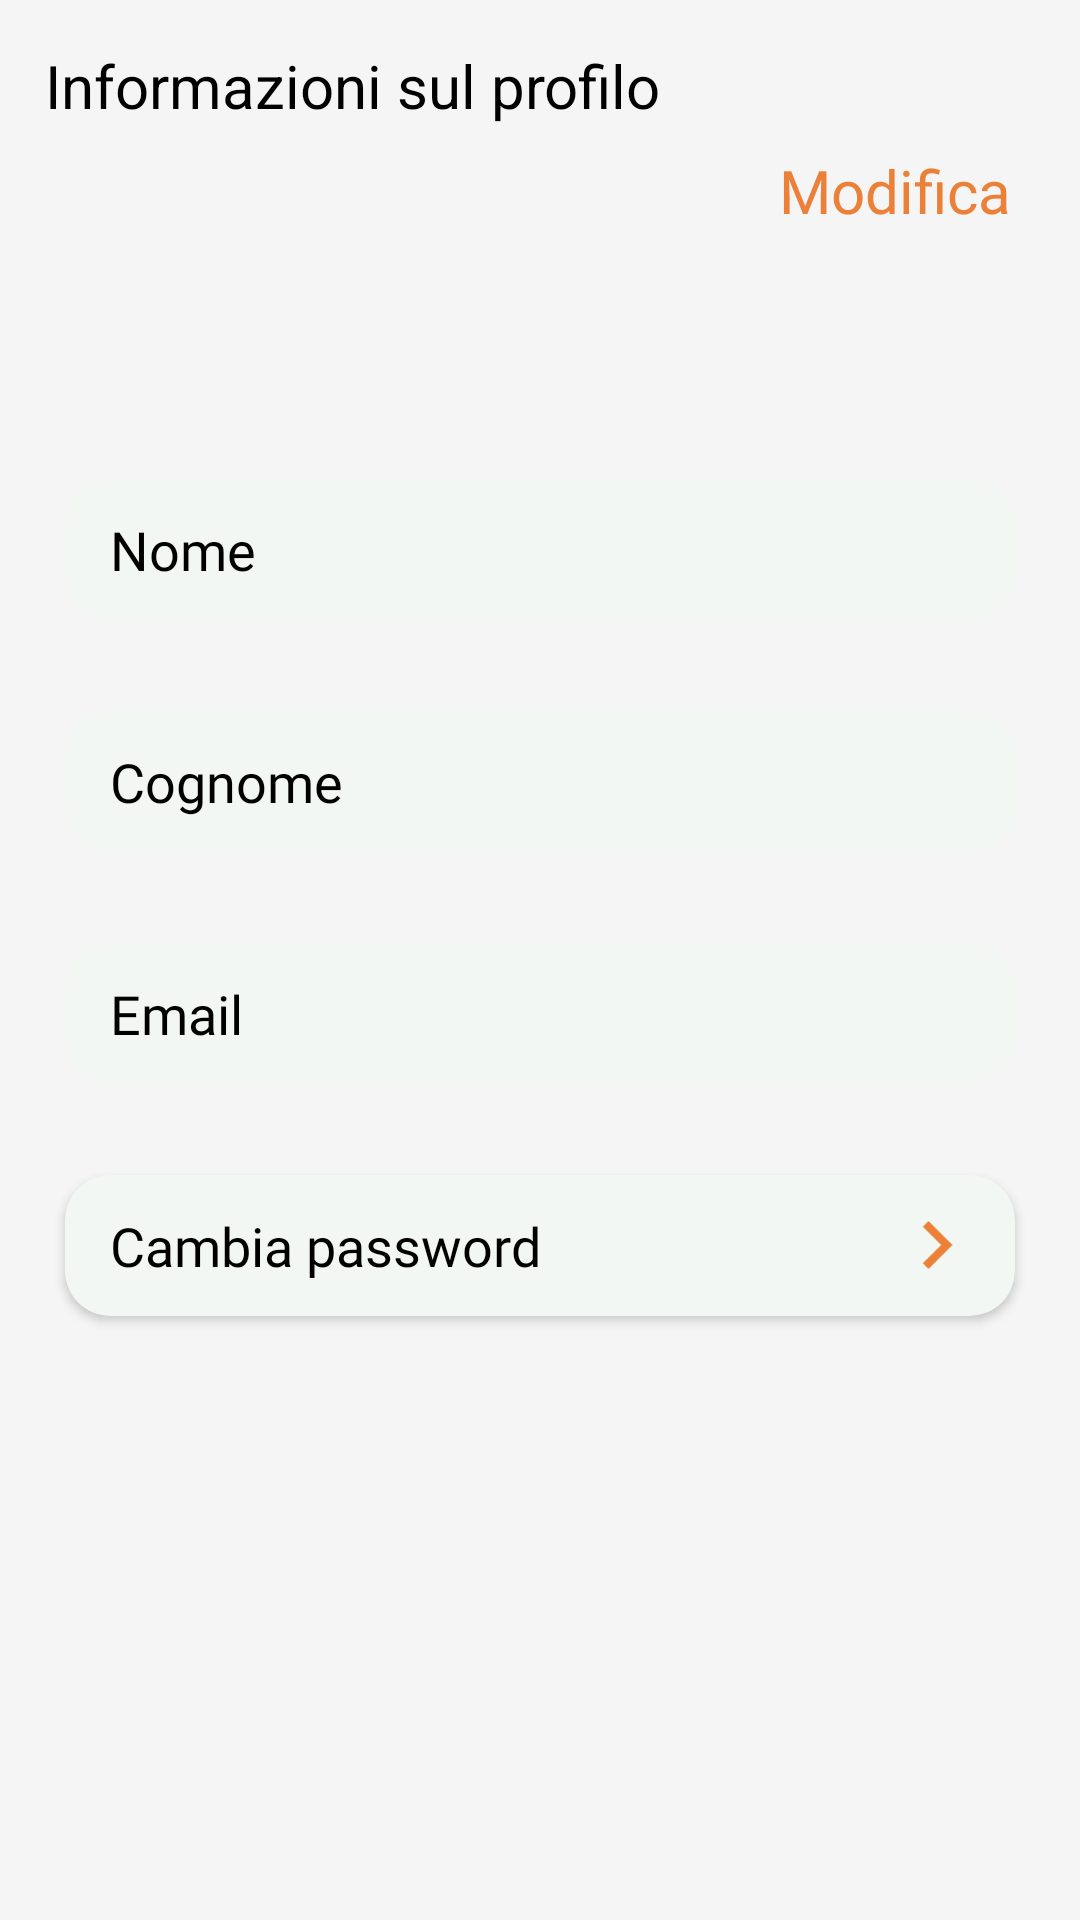

Screen size 1080x1920. Icon name, then its center in pixels as [x,y]:
navigate next: [937,1245]
